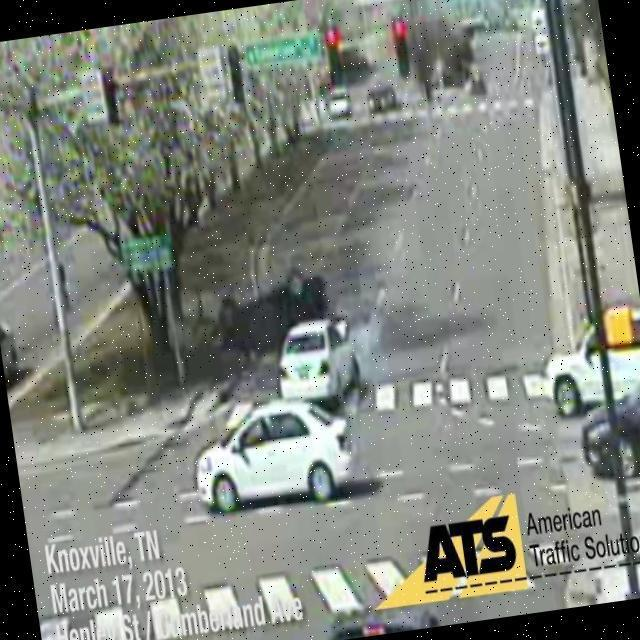accident: (208, 256, 337, 361)
